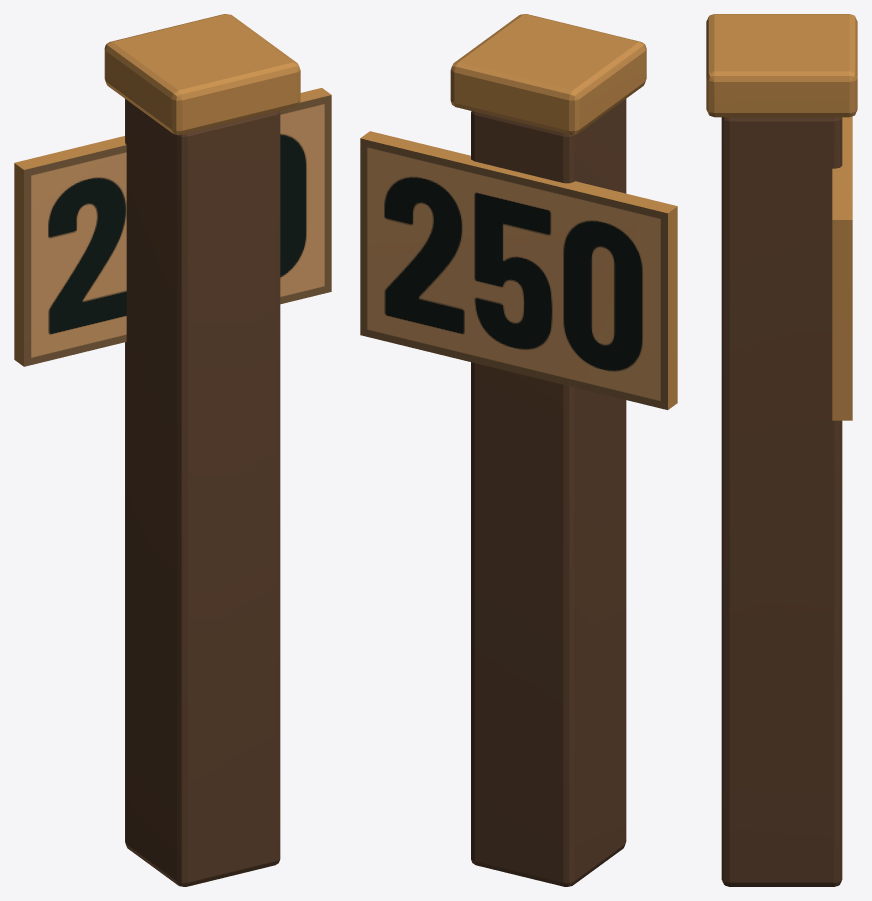
File: yardage_marker_250.glb
3 views of the same model, side by side, from view 1: azimuth 30°, elevation 25°; view 2: azimuth 150°, elevation 25°; view 3: azimuth 270°, elevation 25° (orthographic). The views are drawn at different scales.
Visible parts, largest first — view 1: Post, Plate, Cap; view 2: Post, Plate, Cap; view 3: Post, Cap, Plate.
Part boxes in pixels (x1,y1,x2,y2): Post: (125, 99, 280, 886); Plate: (14, 88, 331, 366); Cap: (104, 14, 300, 134); Post: (471, 99, 626, 886); Plate: (360, 131, 677, 409); Cap: (450, 14, 646, 134); Post: (721, 117, 842, 886); Cap: (706, 14, 857, 117); Plate: (832, 116, 852, 420).
Bounding box in the file's own units: 0.36 × 0.9 × 0.15.
Materials: 2 (2 with a texture image).
